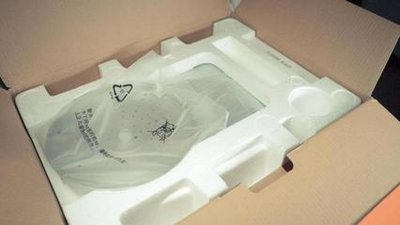5/可回收垃圾/泡沫: (1, 1, 400, 225)
